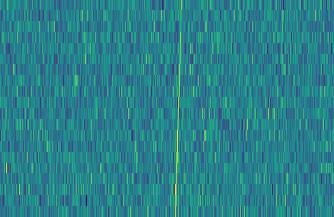signal: (170, 0, 185, 217)
